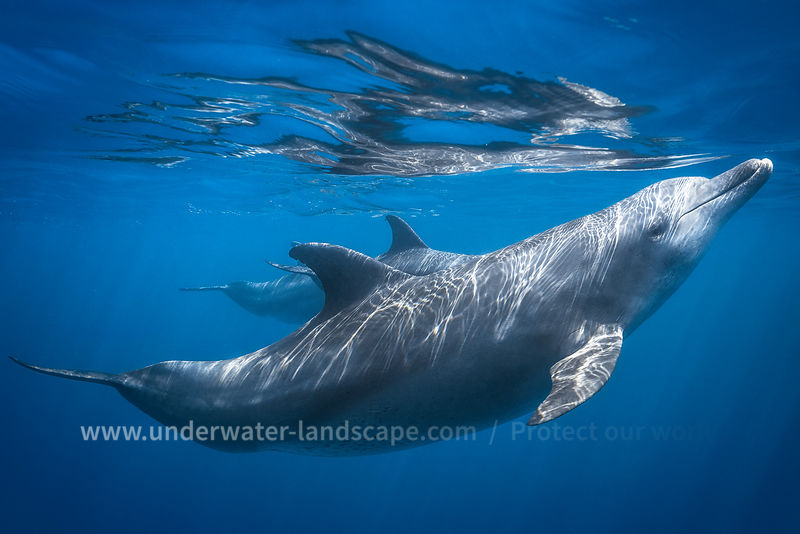dolphin: (17, 165, 800, 454)
